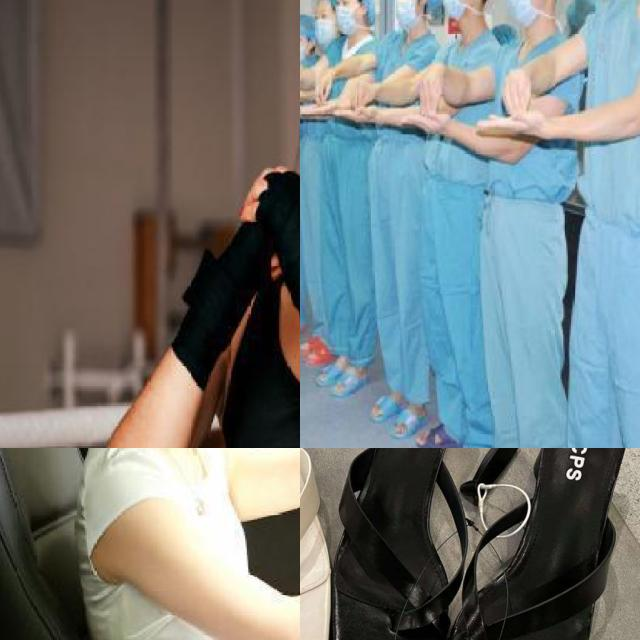Sandals: (322, 448, 640, 640)
face_mask: (500, 0, 547, 30), (313, 2, 340, 50), (332, 0, 361, 39), (392, 0, 424, 33), (438, 0, 478, 22), (300, 29, 311, 62)
hand_glove: (236, 161, 300, 286)
hand_noglove: (474, 109, 542, 138), (499, 67, 531, 113), (417, 68, 443, 114), (334, 104, 377, 130), (404, 110, 446, 134), (302, 102, 336, 121), (352, 80, 371, 112), (312, 76, 331, 102)
person: (105, 0, 300, 448), (54, 448, 300, 640), (480, 0, 580, 448), (552, 0, 640, 448), (420, 0, 494, 448), (372, 0, 441, 448), (332, 0, 375, 399), (301, 0, 337, 382), (300, 11, 312, 357)
